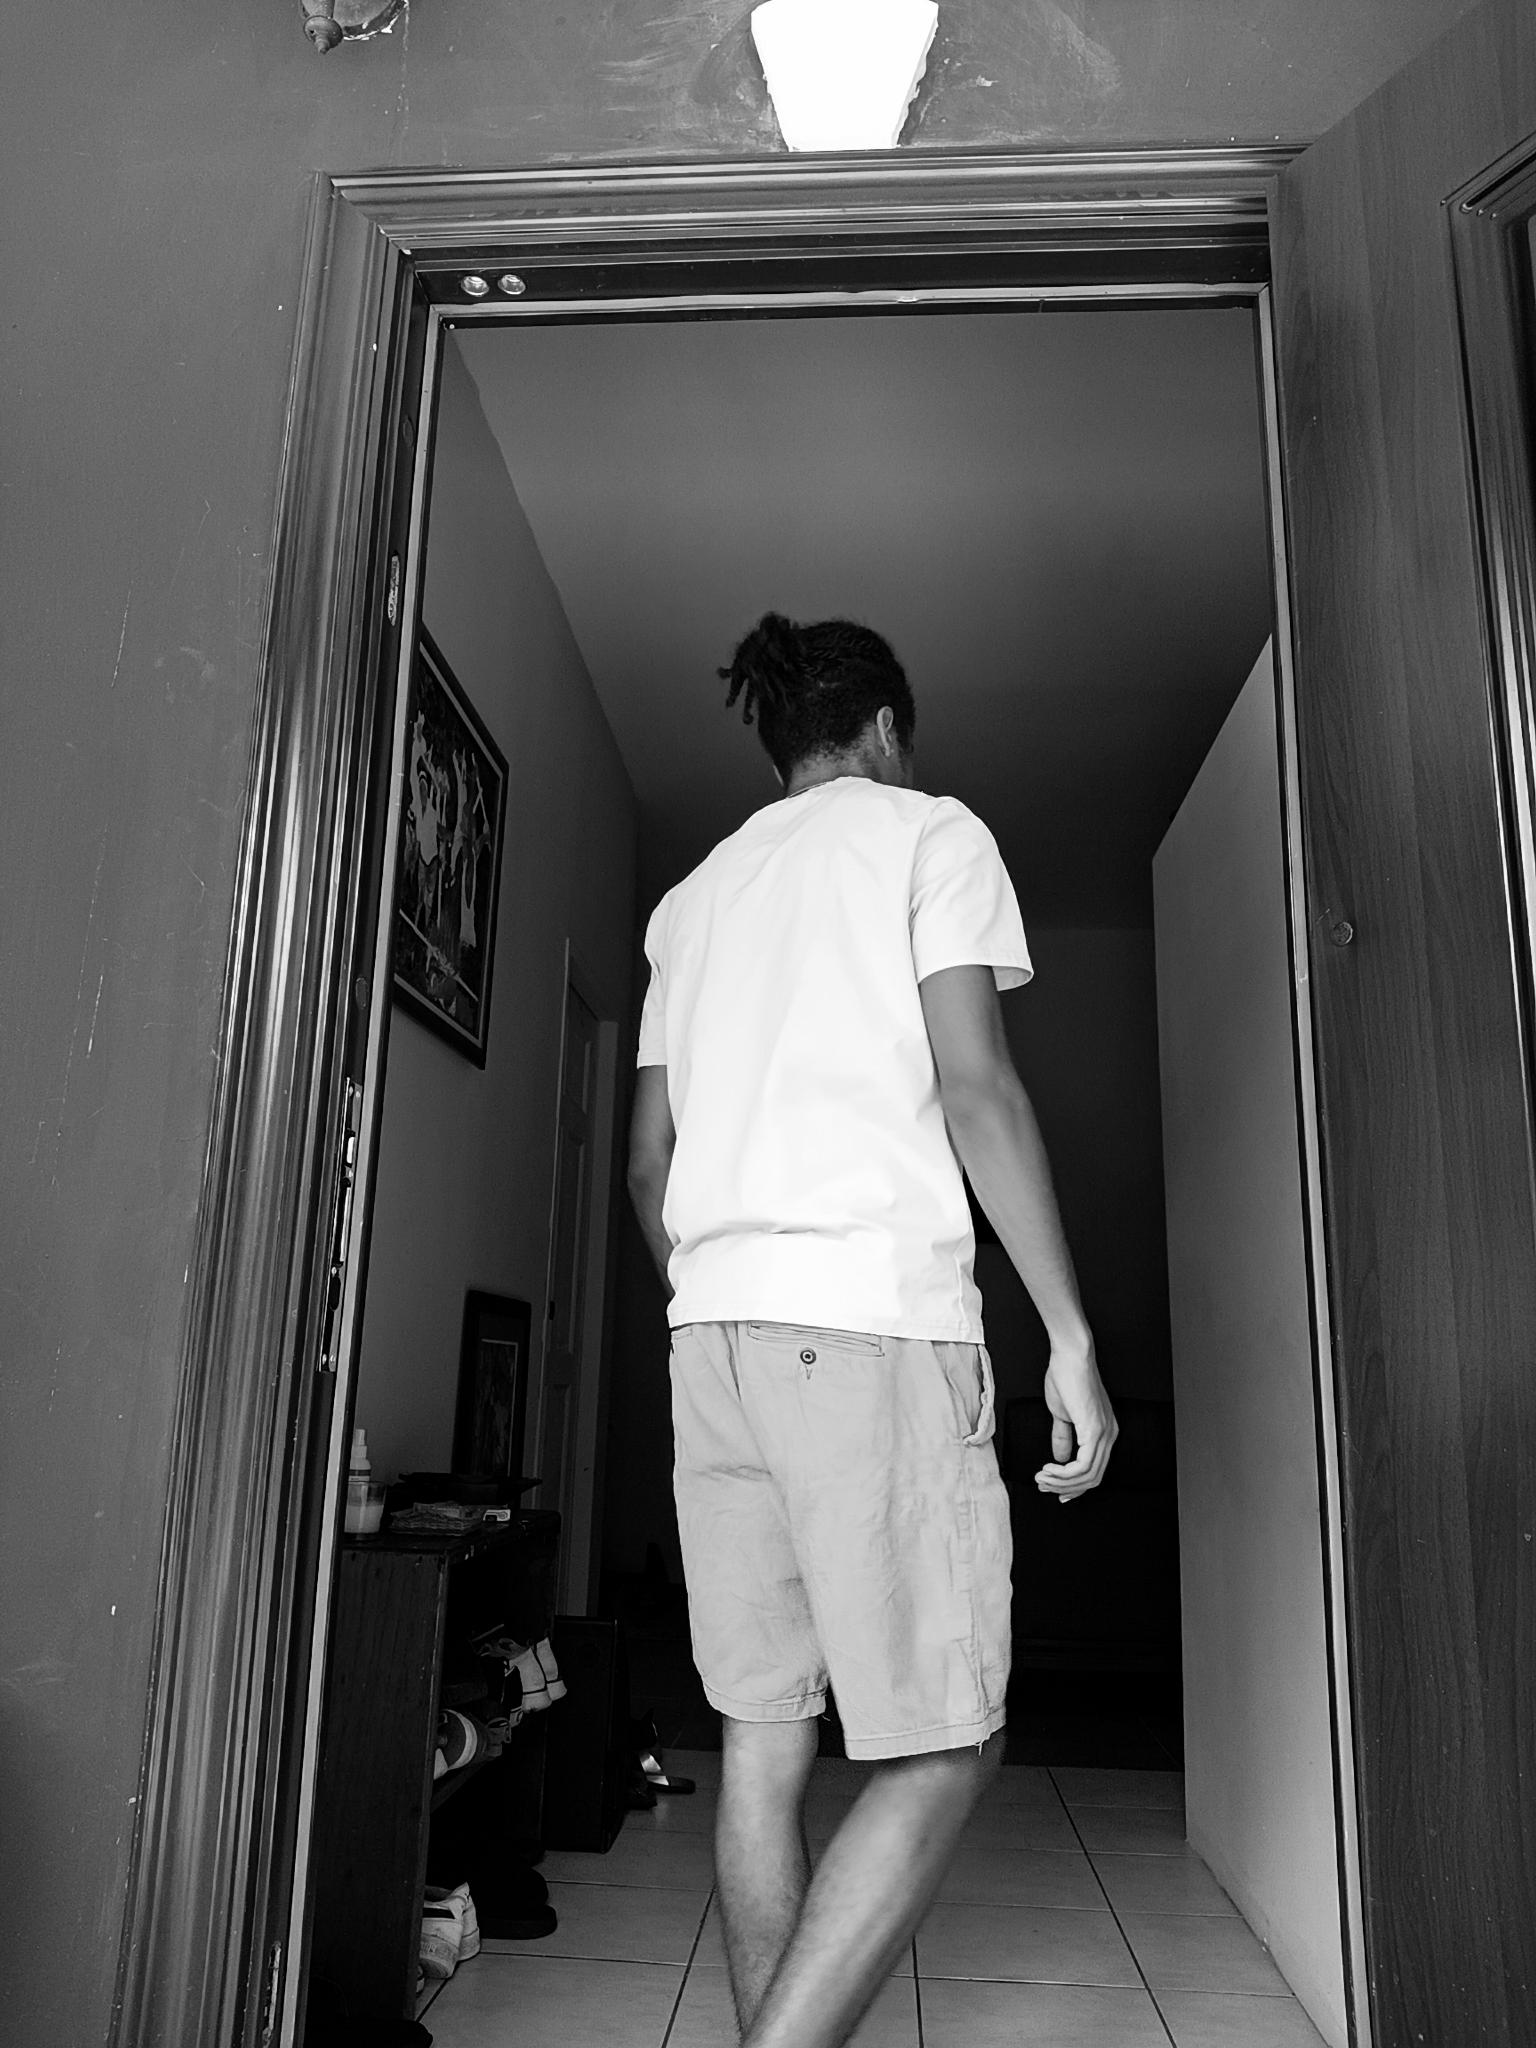back: (618, 605, 1121, 2040)
